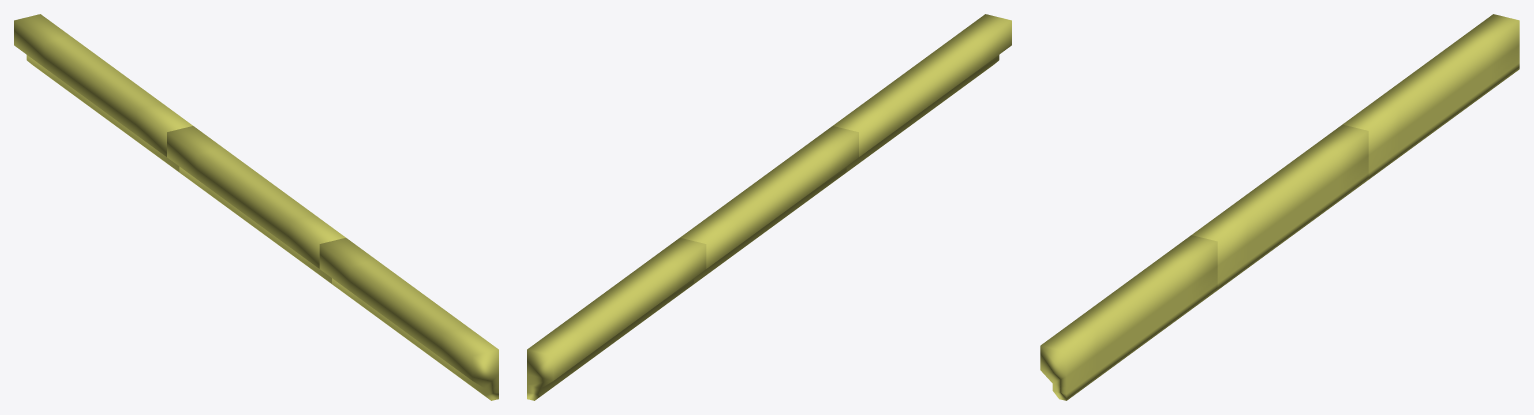
The model's file is Wall_Orn_04_x3.fbx.
The picture shows the model from 3 angles, left to right: view 1: azimuth 30°, elevation 25°; view 2: azimuth 150°, elevation 25°; view 3: azimuth 330°, elevation 25°; orthographic projection.
Visible parts, largest first — view 1: Wall_Orn_04_x3; view 2: Wall_Orn_04_x3; view 3: Wall_Orn_04_x3.
Boxes of the visible parts, box(x1,y1,x2,y2) form: Wall_Orn_04_x3: box(14, 14, 498, 400); Wall_Orn_04_x3: box(527, 14, 1011, 400); Wall_Orn_04_x3: box(1040, 14, 1519, 400).
Bounding box in the file's own units: 30 × 53.75 × 900.
